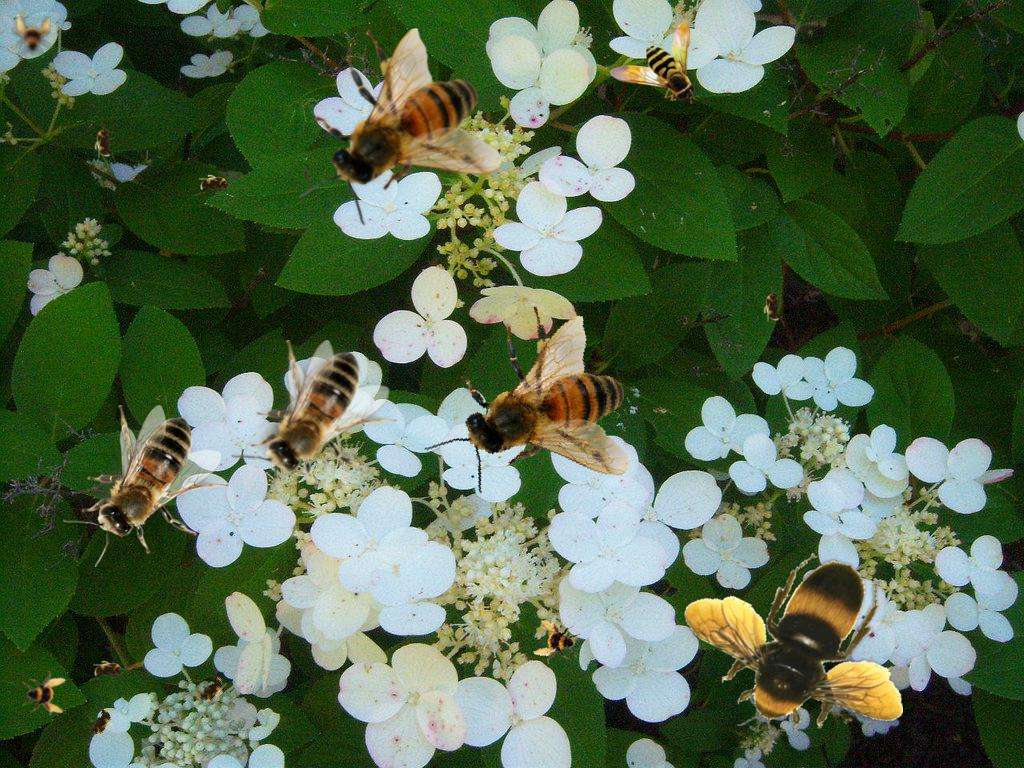Bee: (416, 285, 665, 531), (683, 553, 903, 744), (298, 28, 502, 227), (63, 405, 230, 567), (231, 340, 398, 502), (609, 22, 697, 104), (531, 617, 583, 669), (78, 700, 122, 746), (188, 668, 234, 712), (9, 14, 53, 58), (22, 671, 66, 715), (94, 122, 116, 162), (195, 174, 235, 196), (763, 286, 785, 326), (89, 660, 129, 682)
